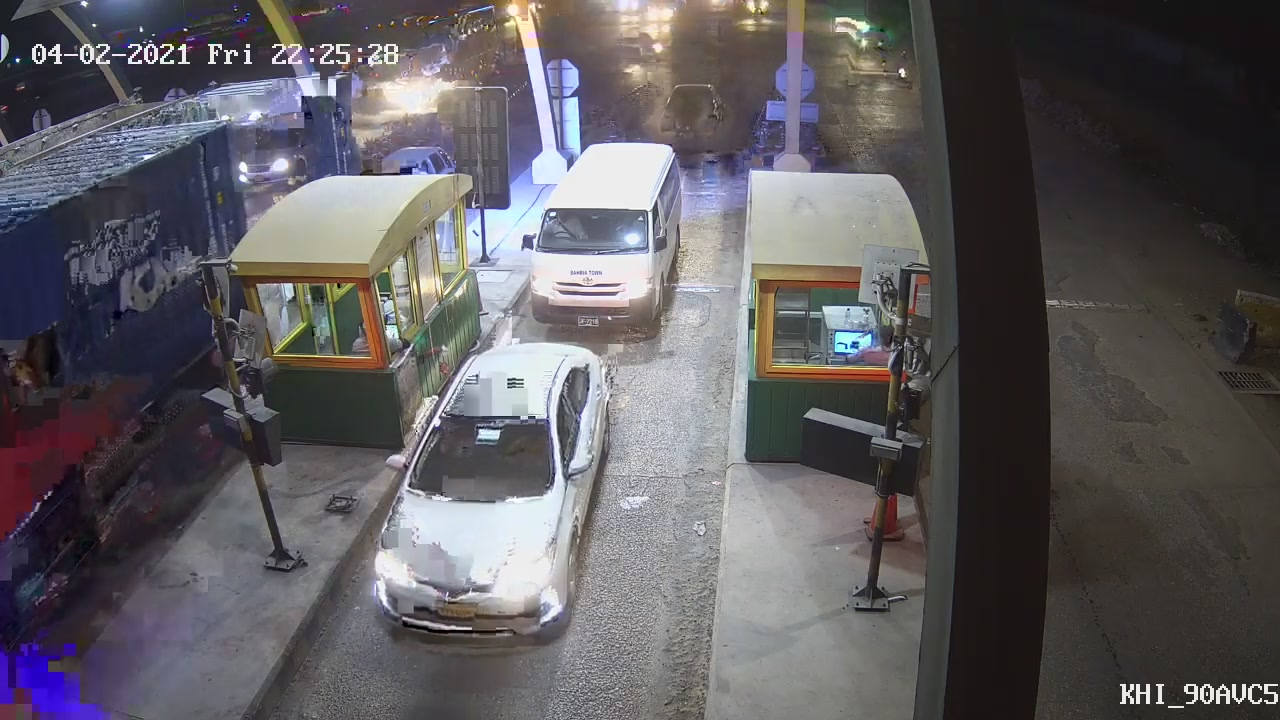F2: (518, 137, 685, 340)
